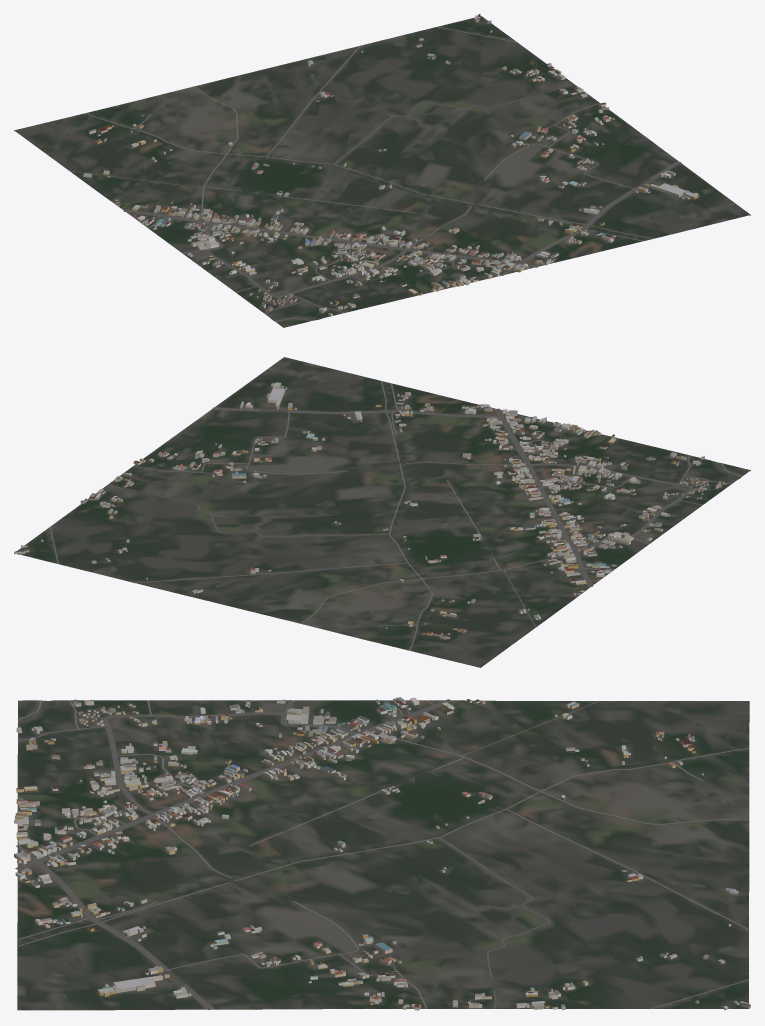
3 renders of one model, top to bottom at view 1: azimuth 30°, elevation 25°; view 2: azimuth 150°, elevation 25°; view 3: azimuth 270°, elevation 25°, orthographic. The views are drawn at different scales.
Parts seen in each view (by area): view 1: ground, buildings, roads; view 2: ground, buildings, roads; view 3: ground, buildings, roads.
Boxes of the visible parts, x1,y1,x2,y2 form: ground: (14, 16, 750, 327); buildings: (83, 14, 698, 316); roads: (69, 26, 680, 321); ground: (14, 357, 750, 667); buildings: (14, 382, 726, 639); roads: (49, 381, 742, 650); ground: (17, 700, 749, 1010); buildings: (14, 697, 750, 1010); roads: (15, 699, 749, 1009).
Size of the model in its own units: 1410 by 19.3 by 1411.
